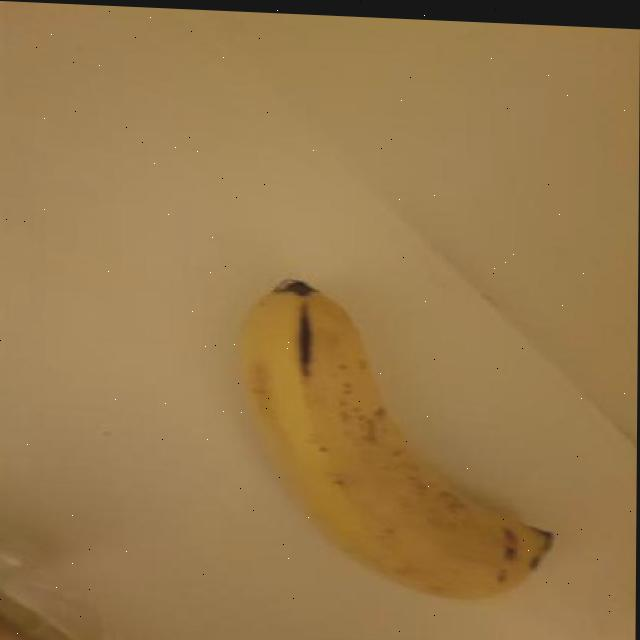banana: (223, 270, 566, 611)
